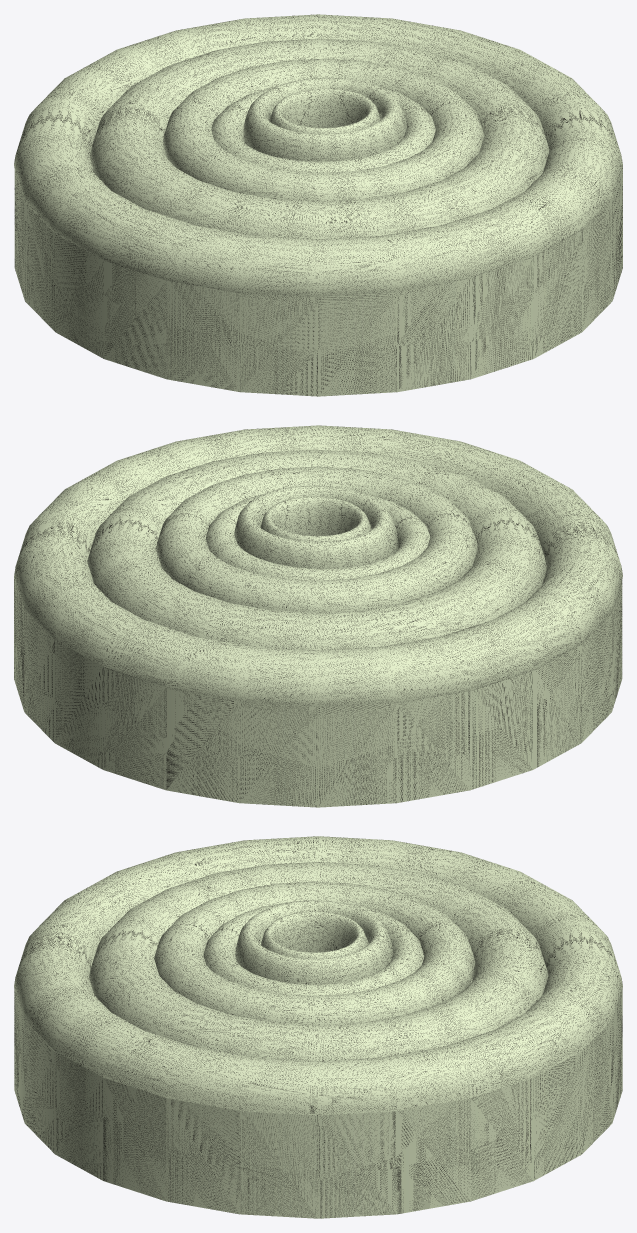
File: BlackChecker.dae
The picture shows the model from 3 angles, top to bottom: view 1: azimuth 30°, elevation 25°; view 2: azimuth 150°, elevation 25°; view 3: azimuth 270°, elevation 25°; orthographic projection.
Parts seen in each view (by area): view 1: ID25, ID3, ID13; view 2: ID25, ID3, ID13; view 3: ID25, ID3, ID13.
Boxes of the visible parts, bbox=[...] form: ID25: bbox=[14, 14, 622, 396]; ID3: bbox=[163, 58, 484, 201]; ID13: bbox=[243, 77, 406, 161]; ID25: bbox=[14, 425, 622, 807]; ID3: bbox=[156, 466, 477, 612]; ID13: bbox=[234, 485, 397, 568]; ID25: bbox=[14, 836, 622, 1218]; ID3: bbox=[154, 881, 475, 1024]; ID13: bbox=[235, 900, 393, 984].
Bounding box in the file's own units: 3.15 × 0.9257 × 3.15.
